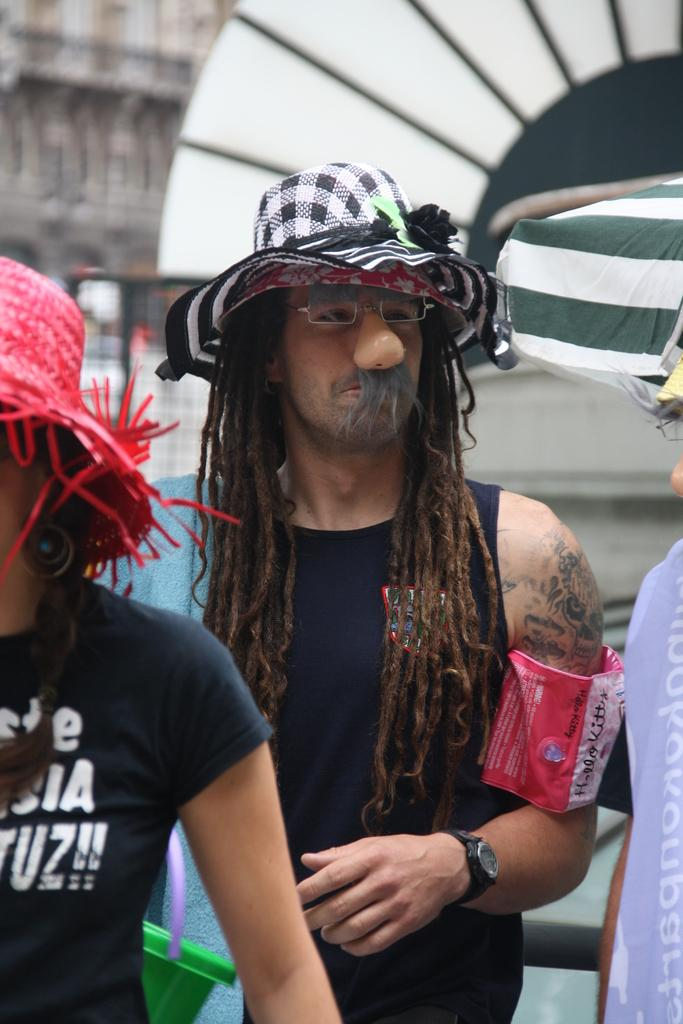Hat: (0, 249, 237, 592), (162, 150, 498, 354), (662, 346, 682, 406)
